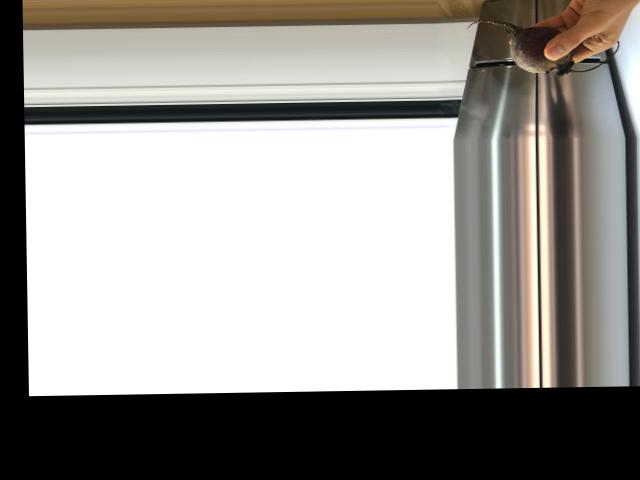beet: (465, 17, 619, 77)
